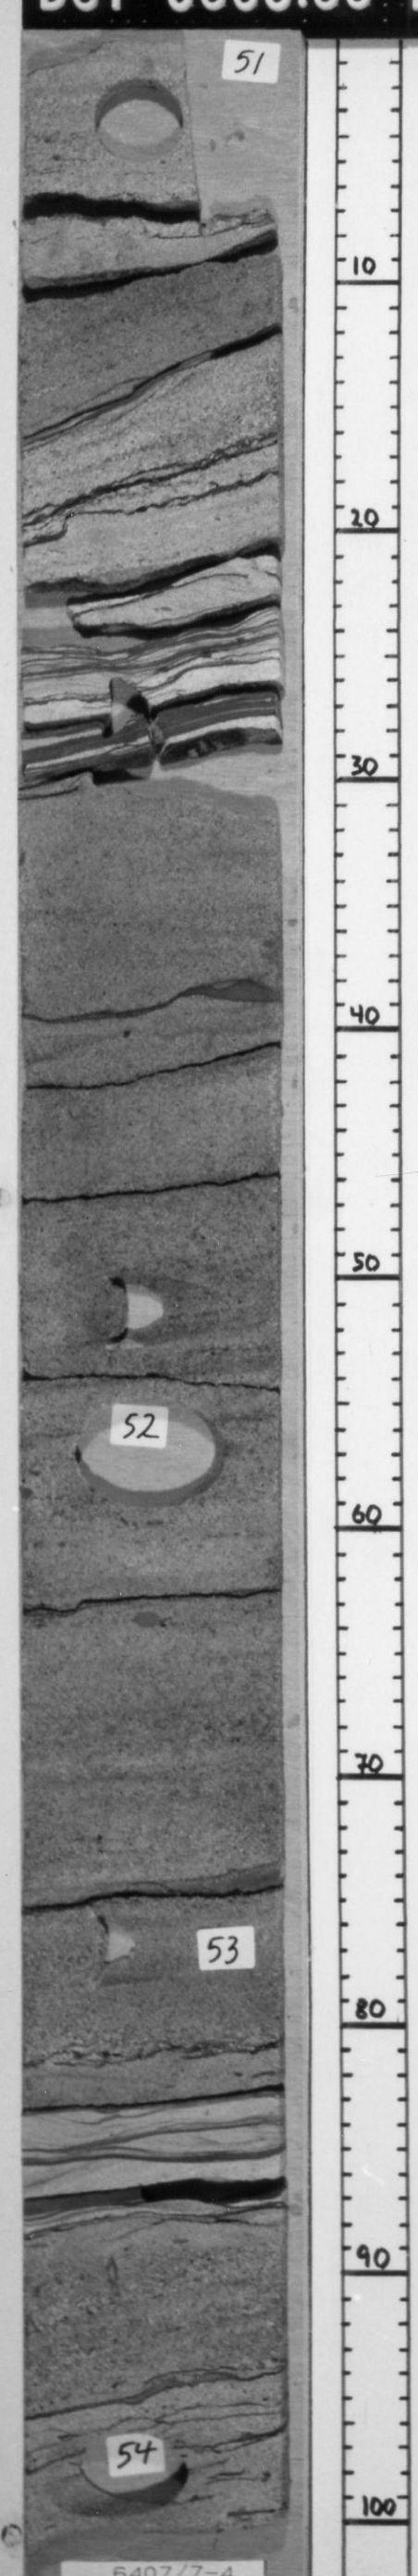hplug: (63, 1393, 235, 1520), (86, 1249, 275, 1354), (84, 1906, 278, 2003), (41, 2410, 199, 2520), (84, 76, 188, 171), (91, 669, 170, 746)
vplug: (179, 49, 260, 245)
